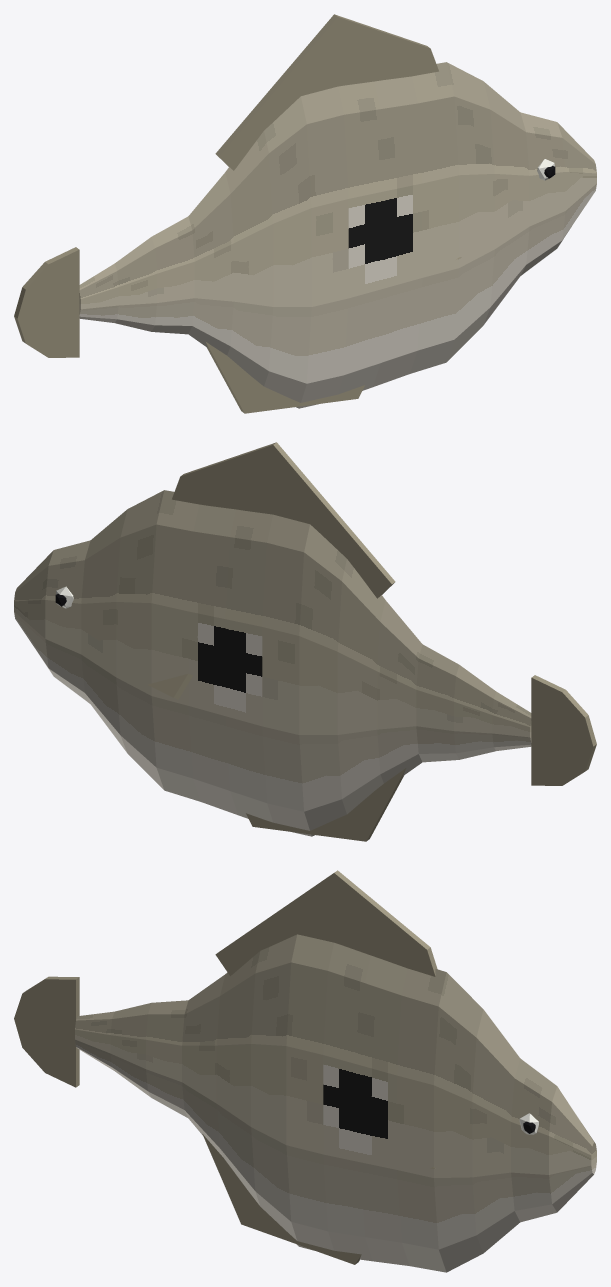
The model's file is john_dory.glb.
3 views of the same model, one above another, from view 1: azimuth 30°, elevation 25°; view 2: azimuth 150°, elevation 25°; view 3: azimuth 330°, elevation 25° (orthographic).
Parts seen in each view (by area): view 1: fish_john_dory; view 2: fish_john_dory; view 3: fish_john_dory.
Boxes of the visible parts, x1,y1,x2,y2 form: fish_john_dory: (14, 14, 596, 413); fish_john_dory: (14, 442, 596, 841); fish_john_dory: (14, 870, 596, 1272).
Bounding box in the file's own units: 1.12 × 0.7161 × 0.1177.
Materials: 4 (1 with a texture image).
